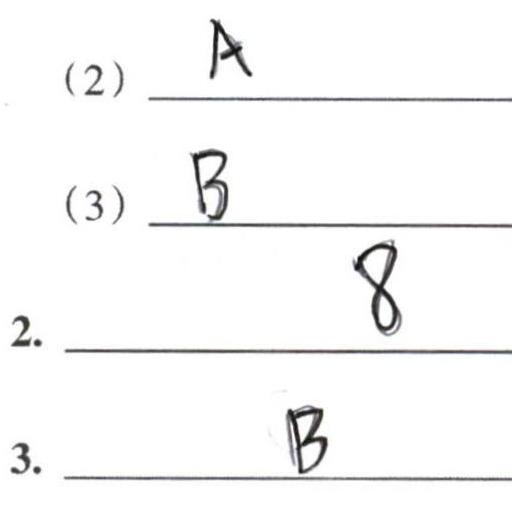ans: (343, 232, 405, 335), (183, 138, 232, 221), (282, 402, 333, 476), (206, 19, 253, 82)
